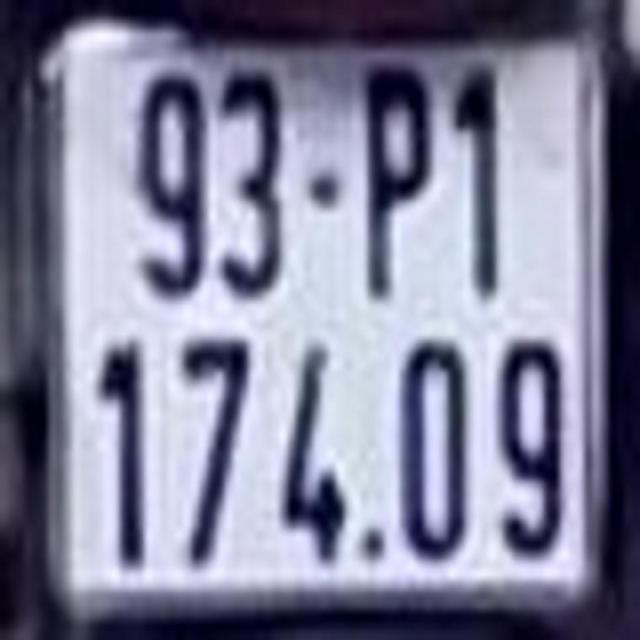0: (400, 343, 471, 555)
1: (96, 342, 147, 566), (453, 64, 497, 299)
3: (220, 68, 284, 295)
4: (282, 343, 349, 568)
7: (183, 338, 250, 564)
9: (494, 336, 565, 558), (140, 73, 210, 290)
P: (363, 65, 440, 298)
